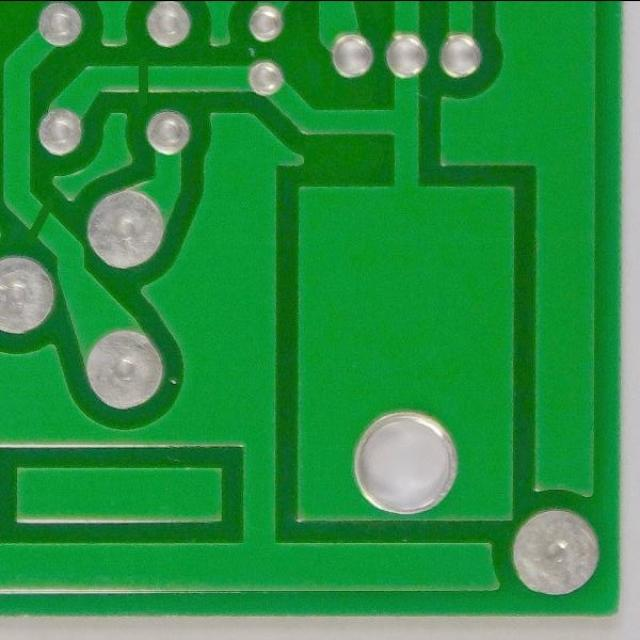Open_Circuit: (124, 46, 166, 112), (16, 194, 64, 248)
